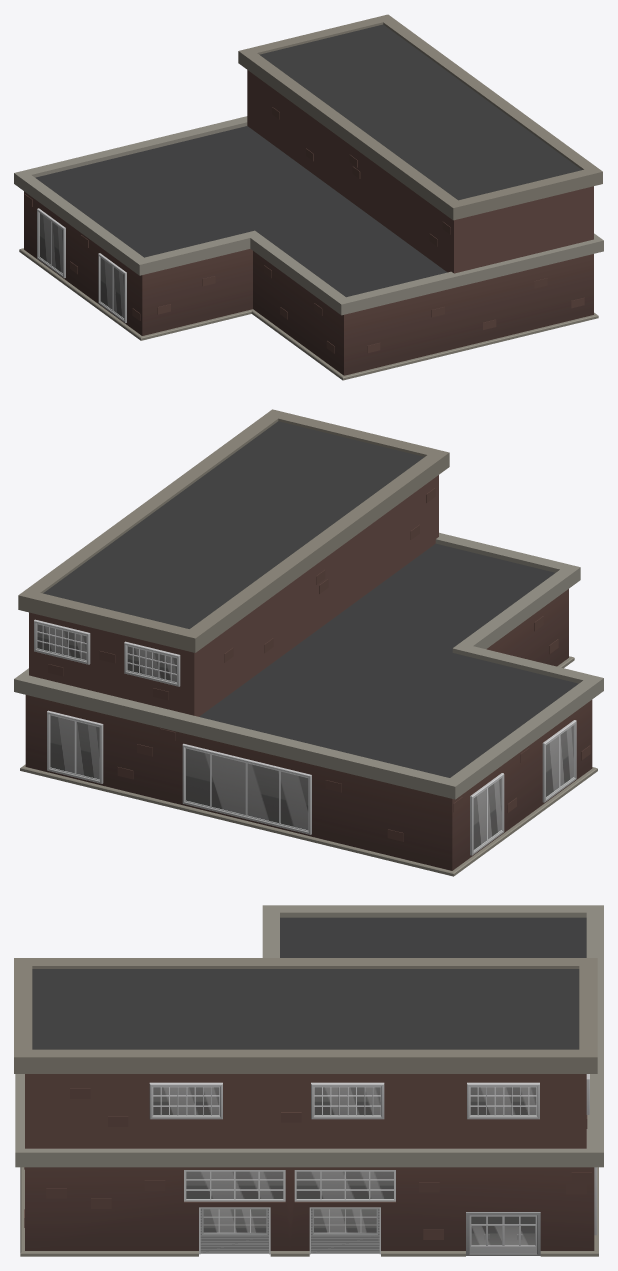
Rendered from Building_22_1_G.glb.
3 renders of one model, top to bottom at view 1: azimuth 30°, elevation 25°; view 2: azimuth 150°, elevation 25°; view 3: azimuth 270°, elevation 25°, orthographic. The views are drawn at different scales.
Visible parts, largest first — view 1: Building_22_1_G; view 2: Building_22_1_G; view 3: Building_22_1_G.
Boxes of the visible parts, x1,y1,x2,y2 form: Building_22_1_G: (14,14,603,380); Building_22_1_G: (14,409,603,876); Building_22_1_G: (14,905,603,1256).
Bounding box in the file's own units: 31.08 × 11.75 × 31.32.
Materials: 3 (3 with a texture image).
